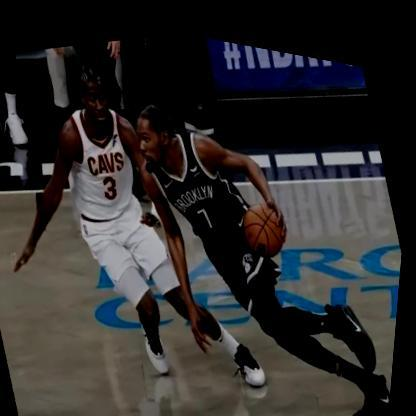basketball: (238, 184, 295, 255)
